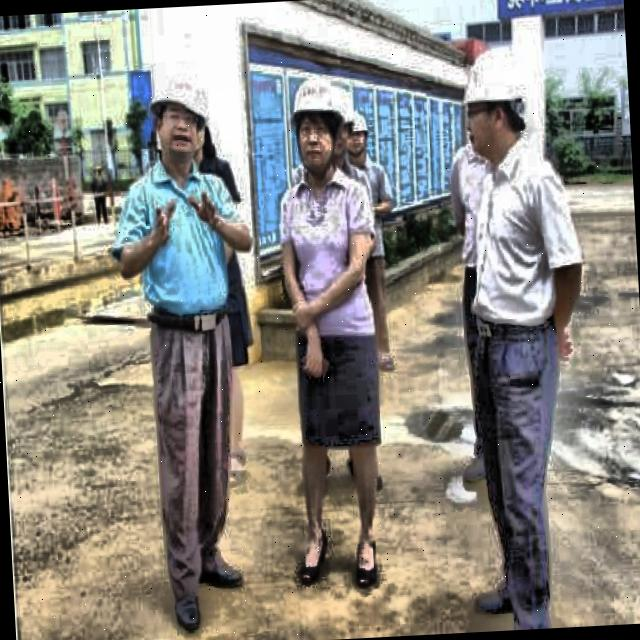helmet: (457, 43, 539, 165), (286, 70, 350, 177), (148, 72, 214, 171), (341, 103, 374, 166)
